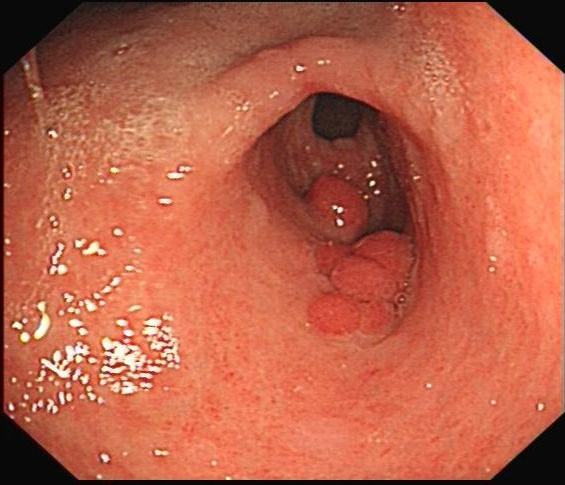Polyp: (296, 175, 378, 242), (326, 251, 397, 305), (354, 219, 425, 271)
